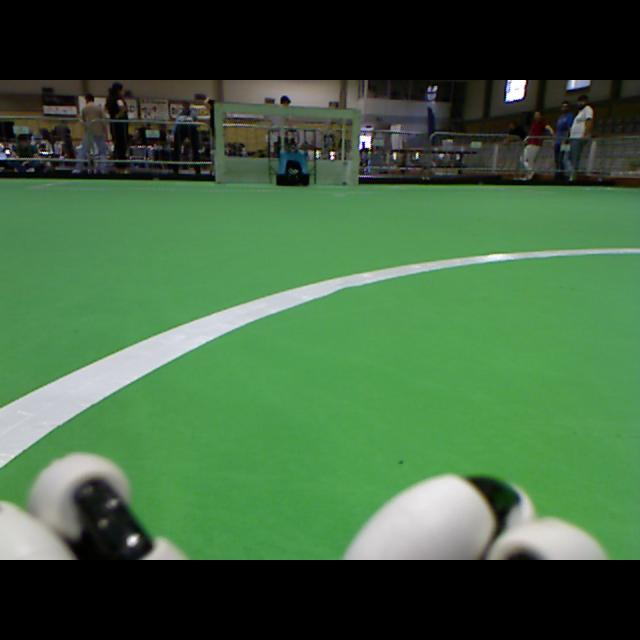goal: (215, 103, 226, 184), (353, 111, 361, 184)
